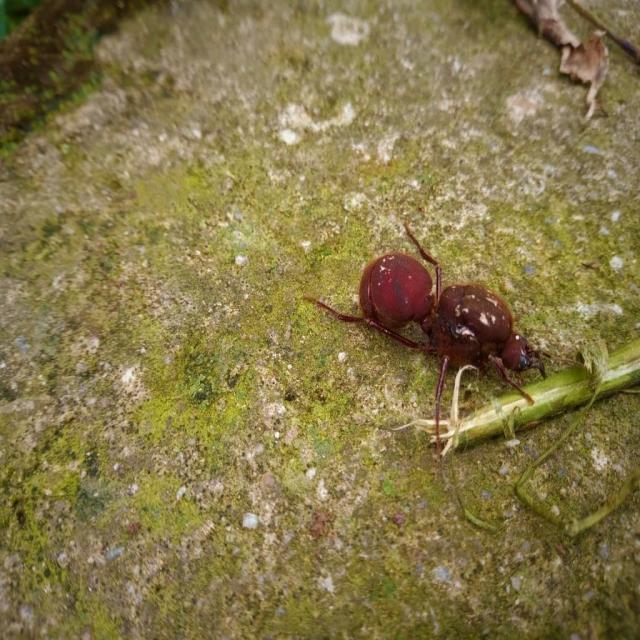Alive-Female-Dealate: (302, 220, 584, 458)
